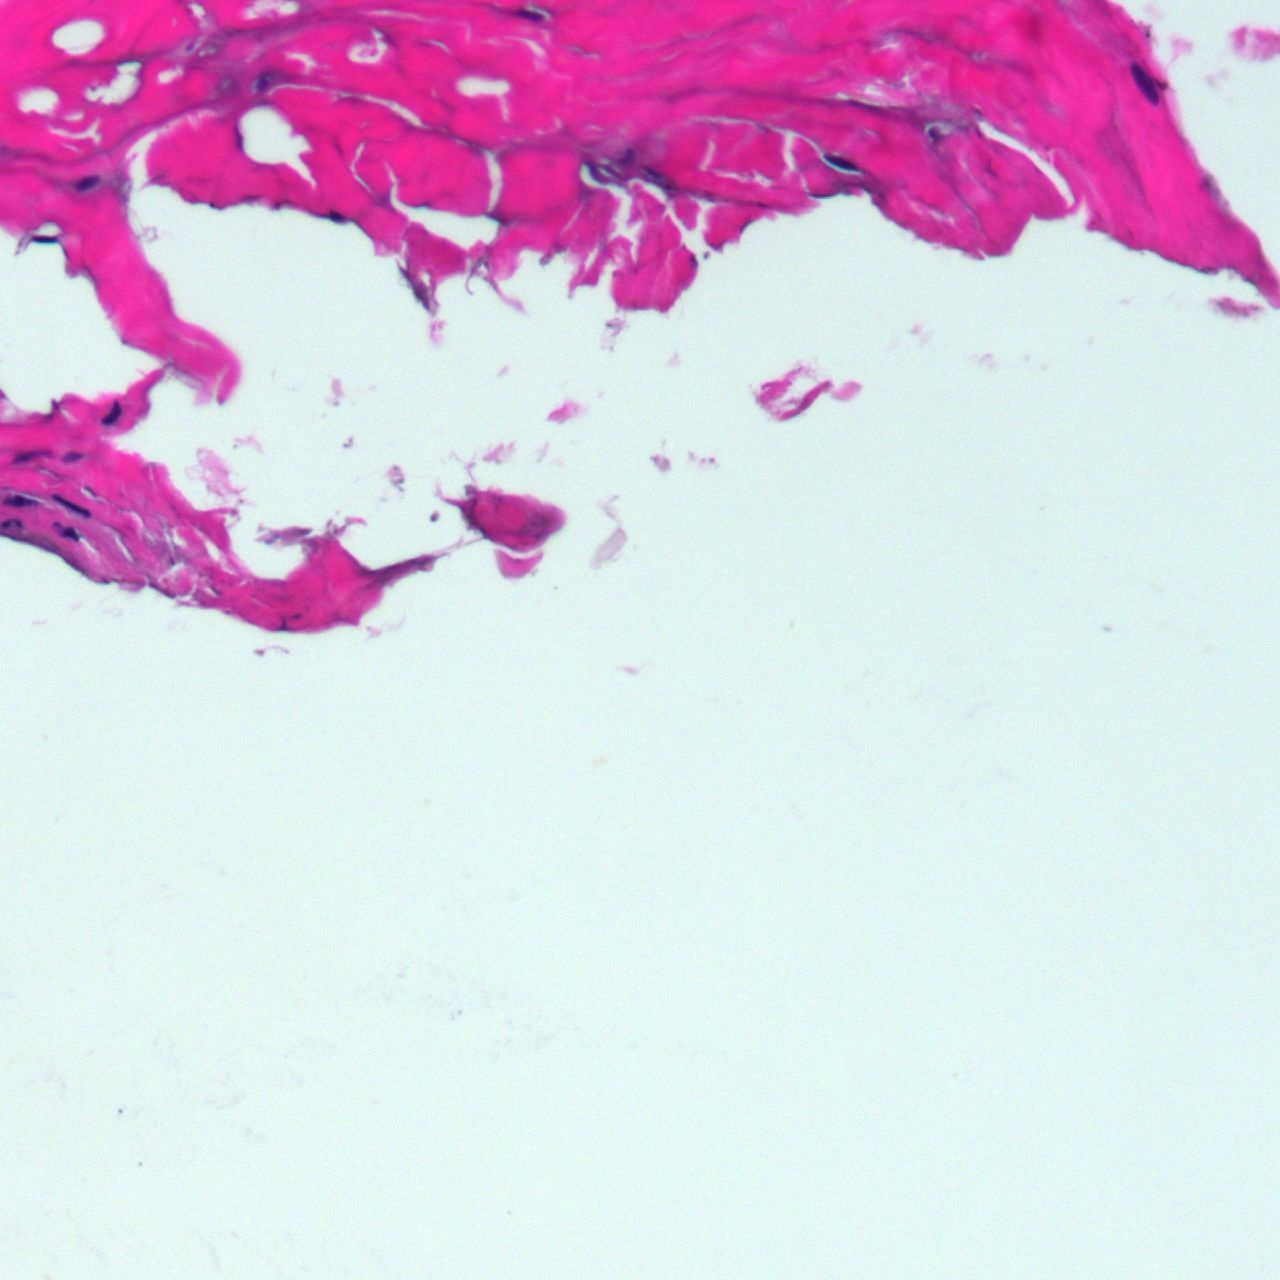dust: (117, 1107, 123, 1114), (137, 1161, 142, 1165)
nucleus-HE: (1121, 56, 1166, 108), (49, 488, 93, 522), (97, 395, 127, 430), (820, 149, 859, 175), (513, 2, 547, 27), (325, 206, 349, 228), (641, 164, 664, 183), (617, 146, 638, 166), (4, 494, 36, 507), (75, 175, 98, 192), (254, 74, 271, 94), (60, 524, 79, 541), (61, 451, 84, 463), (1, 518, 24, 528), (13, 451, 30, 463), (31, 235, 57, 242), (927, 126, 937, 140)
